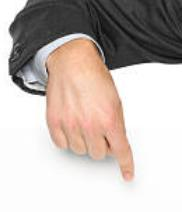up: (44, 59, 135, 182)
